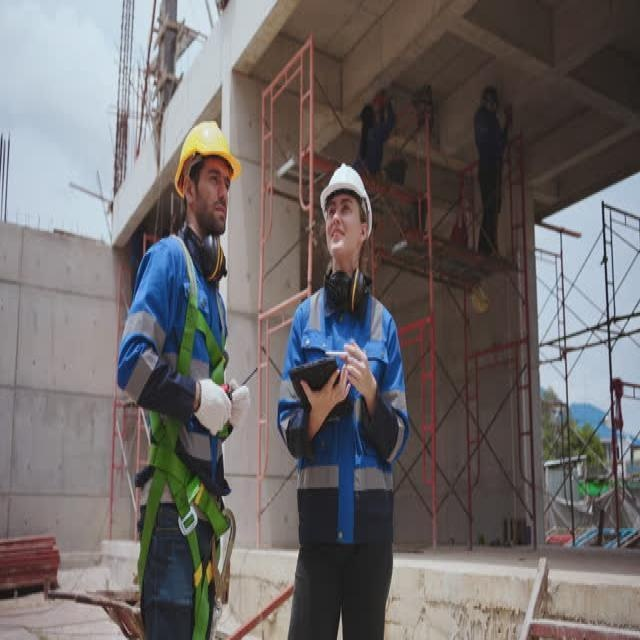Arnes_seguridad: (129, 235, 235, 640)
